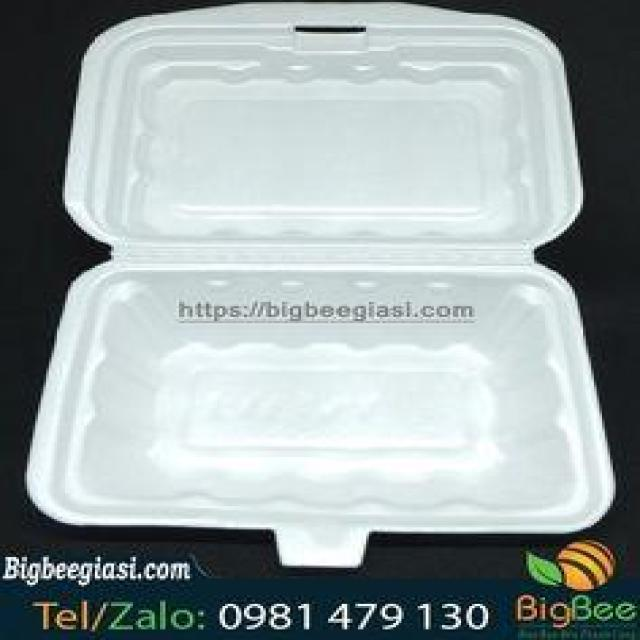styrofoam: (22, 0, 616, 568)
